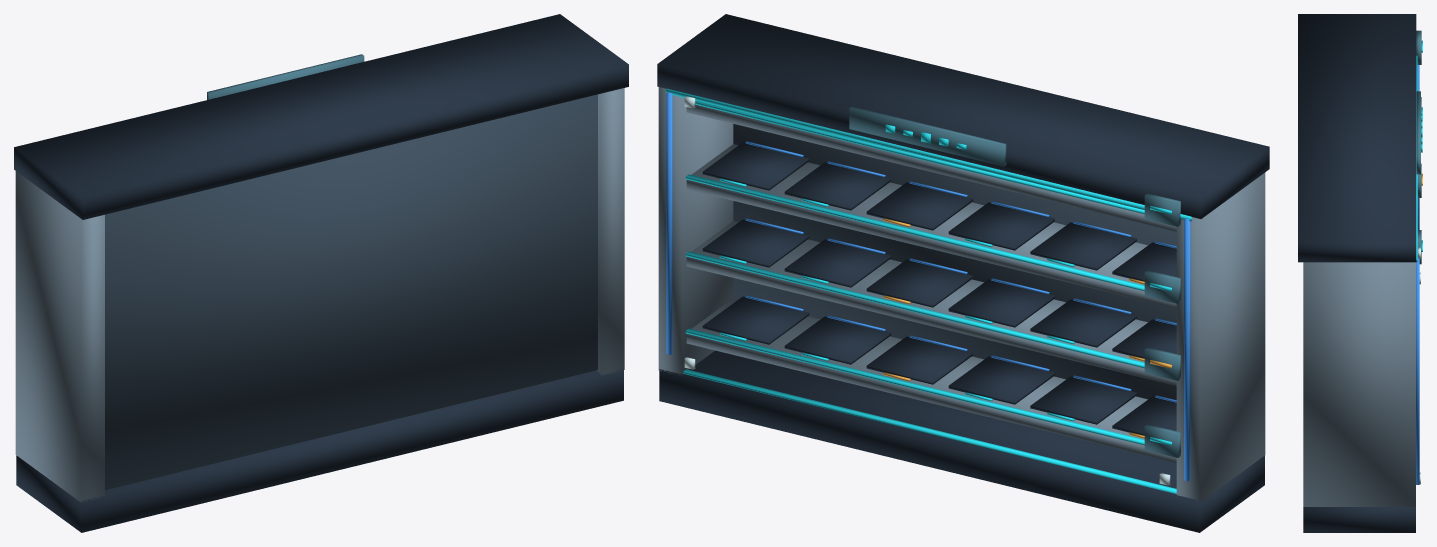
The model's file is ProjectSpark_SciFi_Component_Shelf.fbx.
The picture shows the model from 3 angles, left to right: view 1: azimuth 30°, elevation 25°; view 2: azimuth 150°, elevation 25°; view 3: azimuth 270°, elevation 25°; orthographic projection. The views are drawn at different scales.
Visible parts, largest first — view 1: Rear_Backplate, Top_Crown, Left_Column, Base_Plinth, Right_Column, ProjectSpark_Logo_Plate; view 2: Top_Crown, Base_Plinth, Left_Column, Rear_Backplate, Right_Column, Shelf_Deck_1, Shelf_Deck_3, Shelf_Deck_2, Shelf_Deck_4, ProjectSpark_Logo_Plate, Base_Cyan_Trim, Shelf_Deck_Light_1 (+28 smaller); view 3: Top_Crown, Right_Column, Base_Plinth, Column_Accent_1, ProjectSpark_Logo_Plate, Top_Cyan_Light, Category_Plaque_4, Column_Accent_-1.
Boxes of the visible parts, bbox=[...] form: Rear_Backplate: bbox=[105, 94, 597, 490]; Top_Crown: bbox=[14, 14, 628, 219]; Left_Column: bbox=[15, 171, 104, 502]; Base_Plinth: bbox=[16, 368, 623, 532]; Right_Column: bbox=[596, 88, 624, 375]; ProjectSpark_Logo_Plate: bbox=[207, 54, 364, 99]; Top_Crown: bbox=[657, 14, 1269, 218]; Base_Plinth: bbox=[659, 350, 1264, 532]; Left_Column: bbox=[1176, 172, 1265, 502]; Rear_Backplate: bbox=[733, 124, 1176, 399]; Right_Column: bbox=[658, 87, 733, 375]; Shelf_Deck_1: bbox=[686, 298, 1176, 462]; Shelf_Deck_3: bbox=[686, 144, 1176, 308]; Shelf_Deck_2: bbox=[686, 221, 1176, 385]; Shelf_Deck_4: bbox=[686, 104, 1176, 231]; ProjectSpark_Logo_Plate: bbox=[849, 106, 1006, 166]; Base_Cyan_Trim: bbox=[683, 369, 1176, 493]; Shelf_Deck_Light_1: bbox=[685, 328, 1144, 445]; Top_Crown: bbox=[1298, 14, 1416, 262]; Right_Column: bbox=[1303, 262, 1415, 506]; Base_Plinth: bbox=[1303, 507, 1415, 532]; Column_Accent_1: bbox=[1416, 258, 1419, 484]; ProjectSpark_Logo_Plate: bbox=[1416, 91, 1420, 174]; Top_Cyan_Light: bbox=[1416, 55, 1417, 261]; Category_Plaque_4: bbox=[1416, 30, 1421, 64]; Column_Accent_-1: bbox=[1417, 65, 1419, 229].
Bounding box in the file's own units: 458 × 276 × 105.
